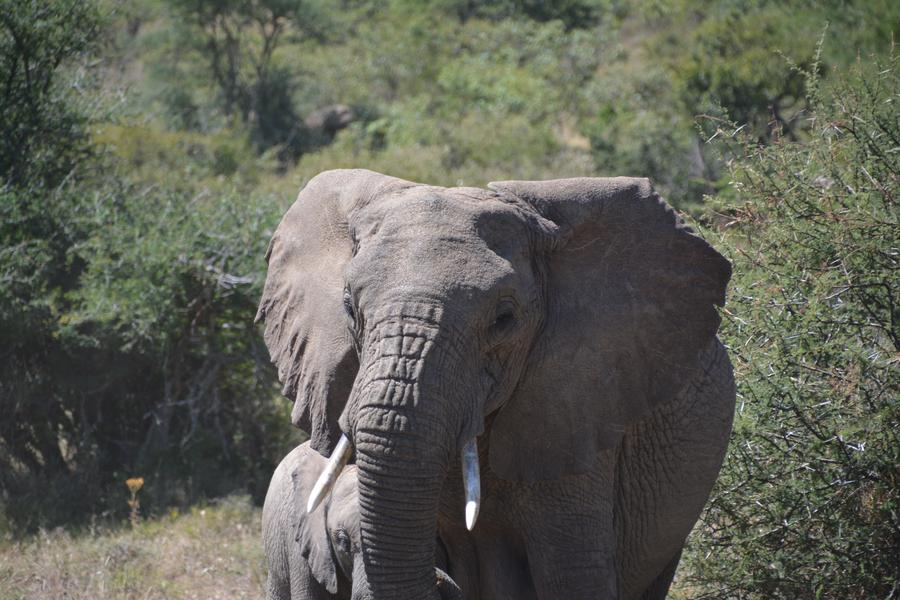elephant: (279, 174, 717, 590), (267, 432, 437, 589)
